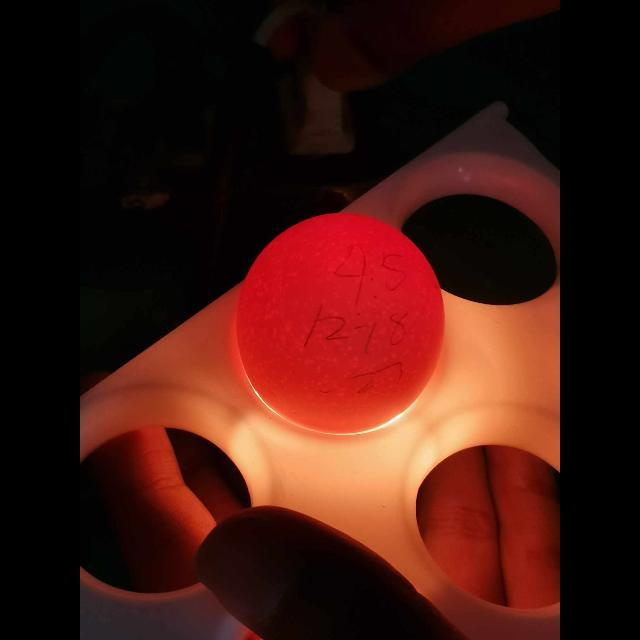Infertile: (240, 208, 442, 420)
